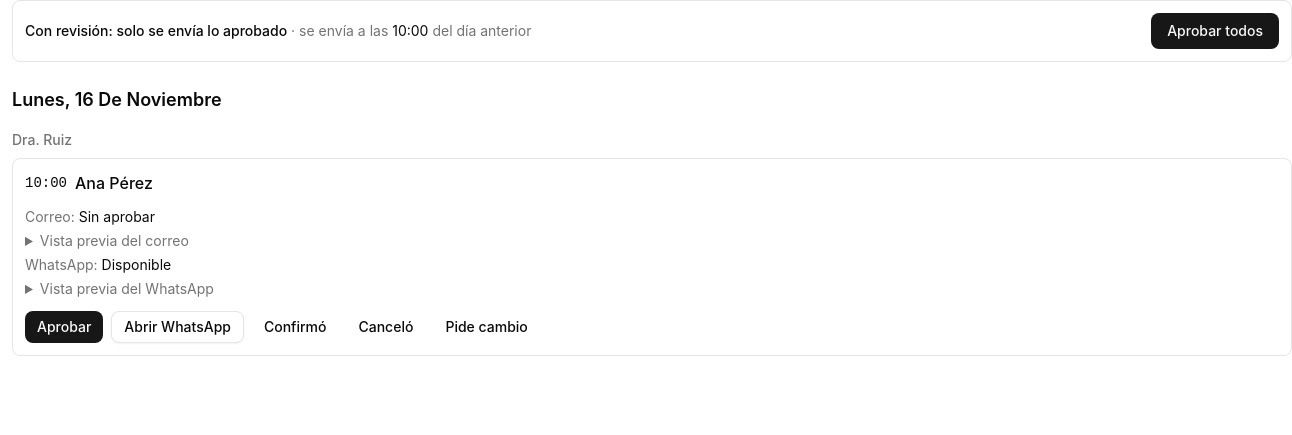
Test case: Abrir WhatsApp › si no se pudo registrar cierra la pestaña vacía y avisa
Click the button "Abrir WhatsApp". click: (178, 327)
box: [111, 311, 244, 343]
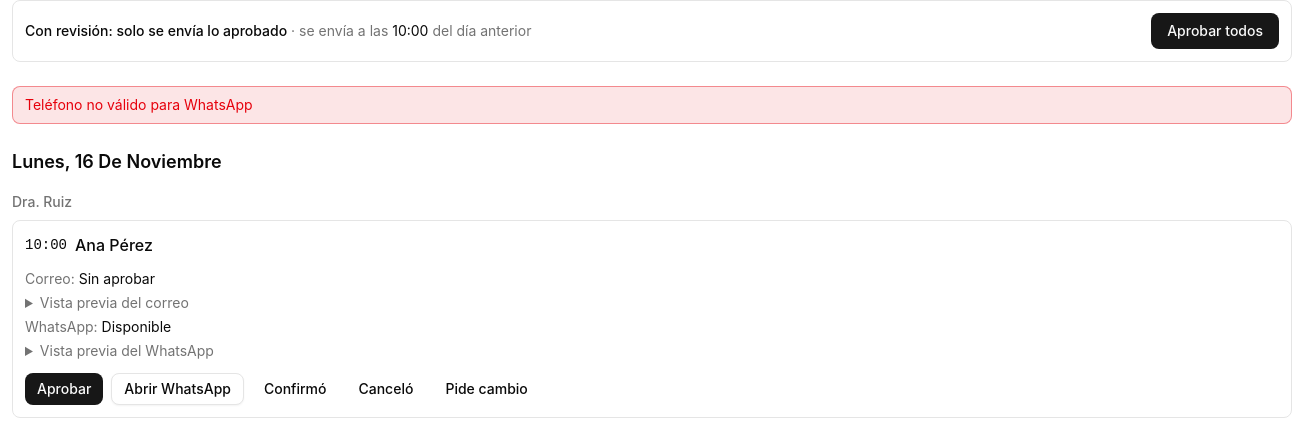
Check: the message reads "Teléfono no válido para WhatsApp", box [25, 96, 253, 113]
